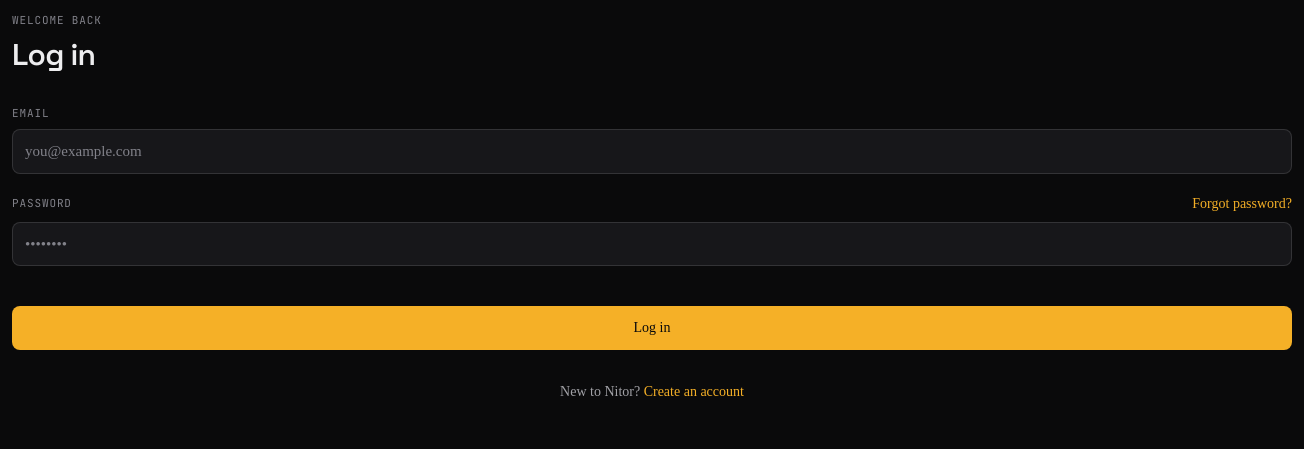
Test: LoginPage › blocks submit with no captcha token and explains why
The image size is (1304, 449).
Type "sam@example.com" into the field labelled "Email". click: point(652, 151)
box: [12,129,1292,174]
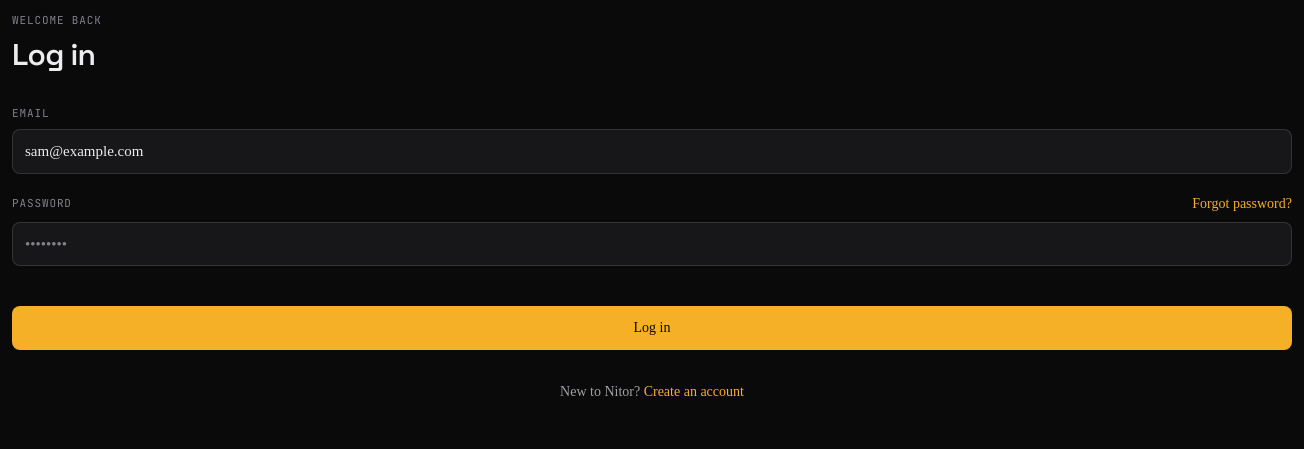
Type "hunter2-pass" into the password field labelled "Password". click: point(652, 244)
box: [12,222,1292,266]
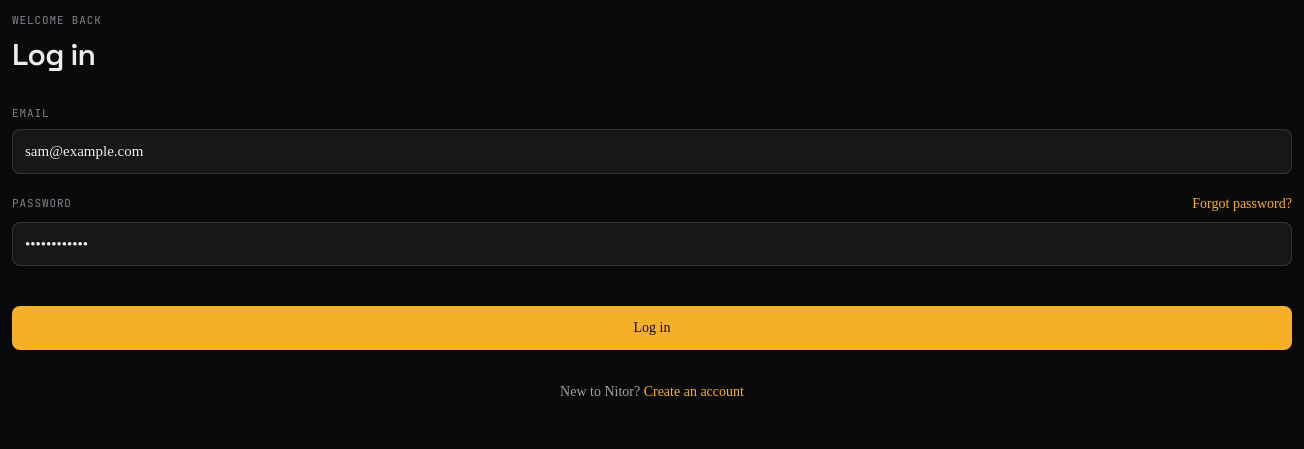
Click the button "Log in". click: point(652, 328)
box: [12,306,1292,350]
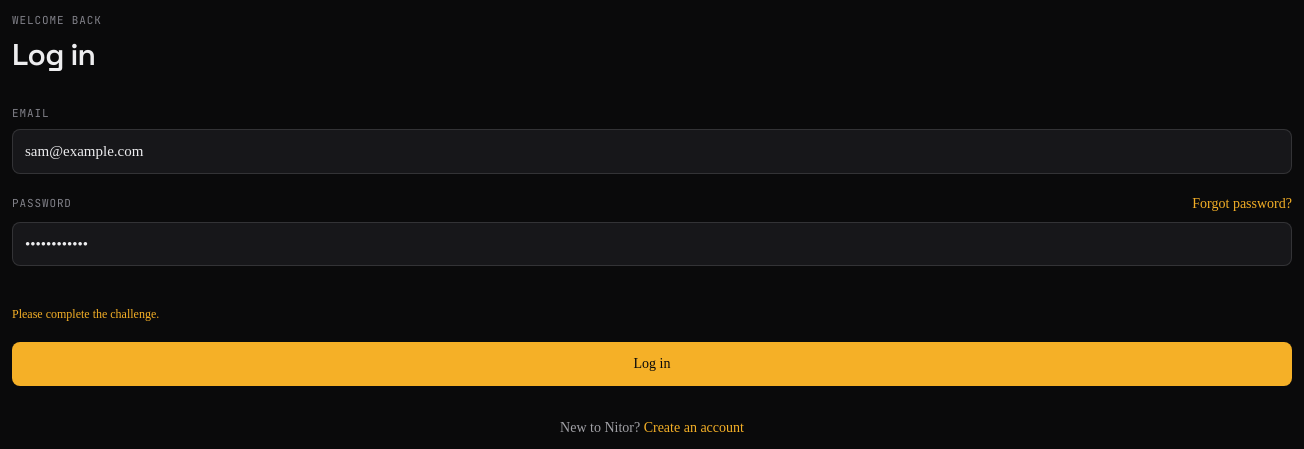
Expected: the text "Please complete the challenge." is shown, [12,307,159,321]
